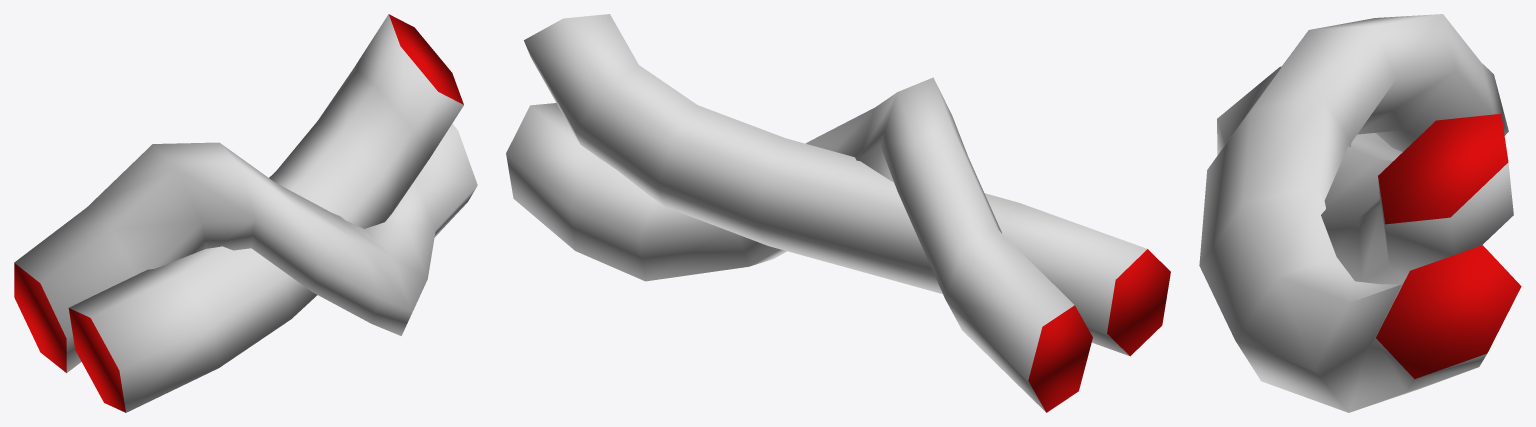
File: beech_trunk2.fbx
The picture shows the model from 3 angles, left to right: view 1: azimuth 30°, elevation 25°; view 2: azimuth 150°, elevation 25°; view 3: azimuth 270°, elevation 25°; orthographic projection. The views are drawn at different scales.
Visible parts, largest first — view 1: log_LOD00; view 2: log_LOD00; view 3: log_LOD00.
Boxes of the visible parts, bbox=[...] form: log_LOD00: bbox=[14, 14, 477, 412]; log_LOD00: bbox=[506, 14, 1170, 412]; log_LOD00: bbox=[1199, 14, 1521, 412].
Size of what is drawn, in the model's own units: 1251 by 668 by 611.
